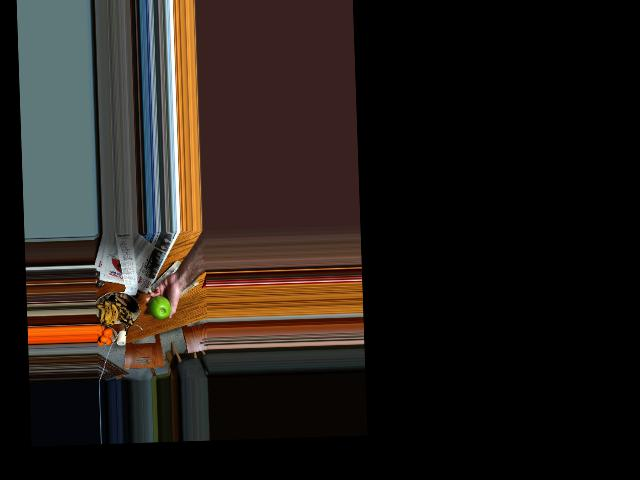apple: (147, 295, 171, 320)
